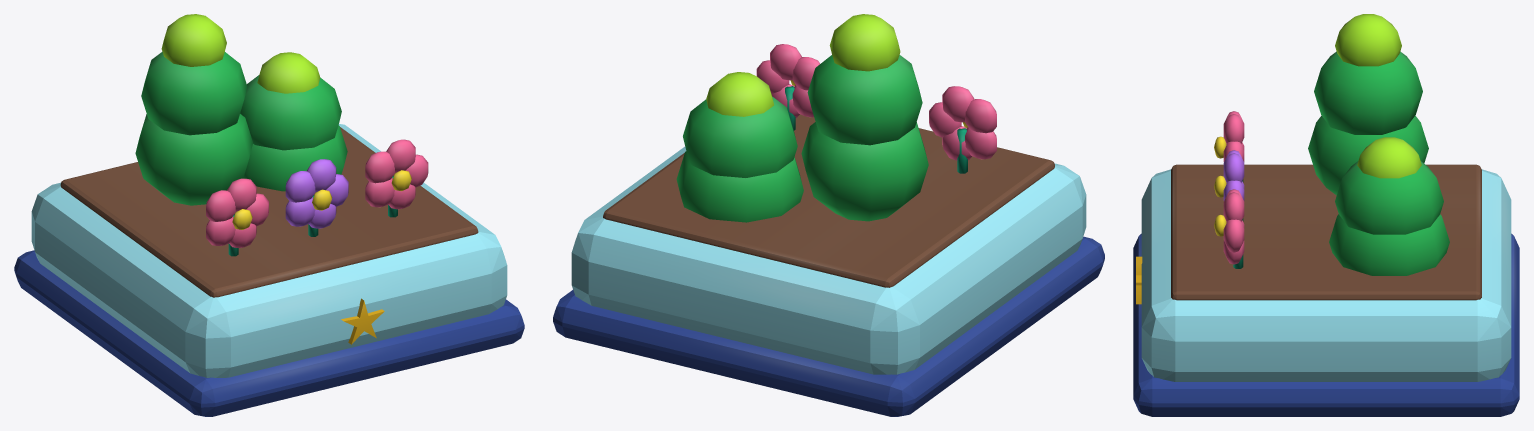
The model's file is PlotCornerGarden.fbx.
3 views of the same model, side by side, from view 1: azimuth 30°, elevation 25°; view 2: azimuth 150°, elevation 25°; view 3: azimuth 270°, elevation 25° (orthographic). The views are drawn at different scales.
Parts seen in each view (by area): view 1: PlotCornerGarden; view 2: PlotCornerGarden; view 3: PlotCornerGarden.
Boxes of the visible parts, x1=… form: PlotCornerGarden: x1=14, y1=14, x2=524, y2=416; PlotCornerGarden: x1=553, y1=14, x2=1104, y2=416; PlotCornerGarden: x1=1133, y1=14, x2=1519, y2=416.
Size of the model in its own units: 4.6 by 3.93 by 4.6.
Materials: 1 (1 with a texture image).
